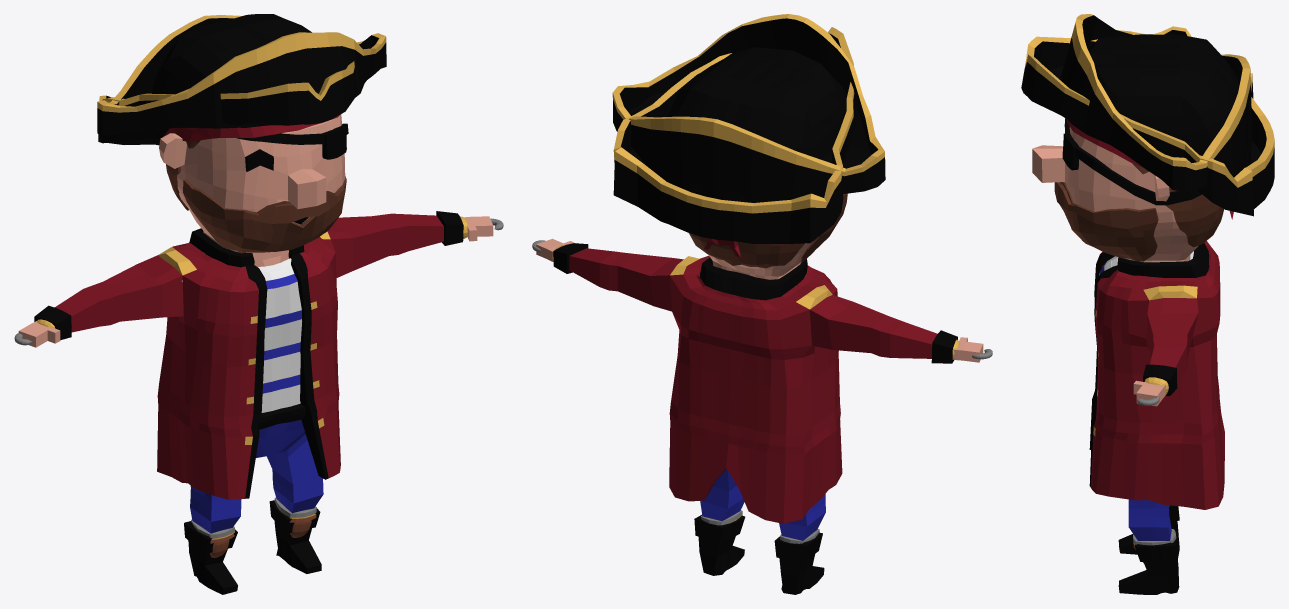
The model's file is pirateV4.fbx.
3 renders of one model, left to right at view 1: azimuth 30°, elevation 25°; view 2: azimuth 150°, elevation 25°; view 3: azimuth 270°, elevation 25°, orthographic. The views are drawn at different scales.
Visible parts, largest first — view 1: Redingote, Pirate, Chapeau_2, Chapeau_1, Barbe, Botes, JambesBoisG, JambeBoisD, CacheOeil, Bandana, Mains, CrochetG; view 2: Redingote, Chapeau_1, Chapeau_2, Pirate, Botes, Cheveaux, JambeBoisD, JambesBoisG; view 3: Redingote, Chapeau_1, Chapeau_2, Pirate, Barbe, CacheOeil, Cheveaux, Botes, JambeBoisD, JambesBoisG, Mains, Bandana.
Part boxes in pixels (x1,y1,x2,y2): Redingote: [34, 211, 463, 499]; Pirate: [159, 114, 345, 533]; Chapeau_2: [97, 15, 386, 135]; Chapeau_1: [98, 14, 357, 145]; Barbe: [183, 176, 346, 252]; Botes: [184, 500, 321, 594]; JambesBoisG: [184, 497, 316, 594]; JambeBoisD: [191, 502, 321, 573]; CacheOeil: [236, 123, 348, 159]; Bandana: [163, 114, 340, 141]; Mains: [18, 216, 493, 347]; CrochetG: [19, 216, 503, 347]; Redingote: [553, 243, 957, 523]; Chapeau_1: [613, 27, 856, 243]; Chapeau_2: [612, 14, 885, 202]; Pirate: [700, 241, 825, 540]; Botes: [695, 516, 824, 594]; Cheveaux: [689, 233, 804, 268]; JambeBoisD: [694, 515, 819, 575]; JambesBoisG: [701, 510, 822, 594]; Redingote: [1089, 241, 1224, 509]; Chapeau_1: [1021, 34, 1274, 216]; Chapeau_2: [1060, 14, 1252, 191]; Pirate: [1032, 127, 1198, 540]; Barbe: [1054, 182, 1158, 261]; CacheOeil: [1062, 118, 1201, 205]; Cheveaux: [1132, 163, 1224, 247]; Botes: [1118, 505, 1179, 594]; JambeBoisD: [1118, 533, 1178, 594]; JambesBoisG: [1118, 506, 1179, 563]; Mains: [1133, 381, 1166, 406]; Bandana: [1066, 119, 1233, 219].
Size of the model in its own units: 566 by 629 by 264.
